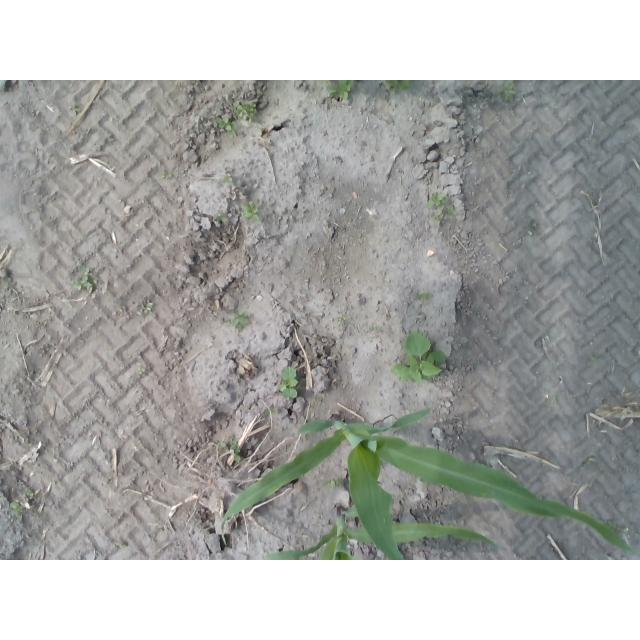Maize: (221, 408, 632, 557), (260, 504, 497, 561)
Weeds: (389, 331, 447, 385), (426, 192, 457, 227), (278, 366, 298, 398), (71, 263, 93, 290), (232, 101, 258, 123), (329, 80, 356, 100), (226, 308, 248, 332), (215, 116, 238, 137), (242, 201, 261, 223), (498, 82, 516, 103), (227, 435, 241, 461), (606, 519, 630, 534), (384, 80, 413, 92), (10, 501, 26, 516), (323, 478, 344, 489), (526, 220, 538, 236), (69, 101, 80, 115), (417, 292, 432, 301), (222, 175, 234, 186), (419, 476, 429, 489), (216, 213, 229, 223), (218, 441, 227, 455), (143, 303, 154, 314), (337, 314, 347, 326), (160, 170, 172, 179), (264, 408, 276, 416), (369, 325, 380, 333), (117, 540, 128, 548), (321, 81, 332, 88), (26, 488, 35, 496), (588, 355, 598, 362), (136, 369, 145, 376), (586, 457, 595, 463)
